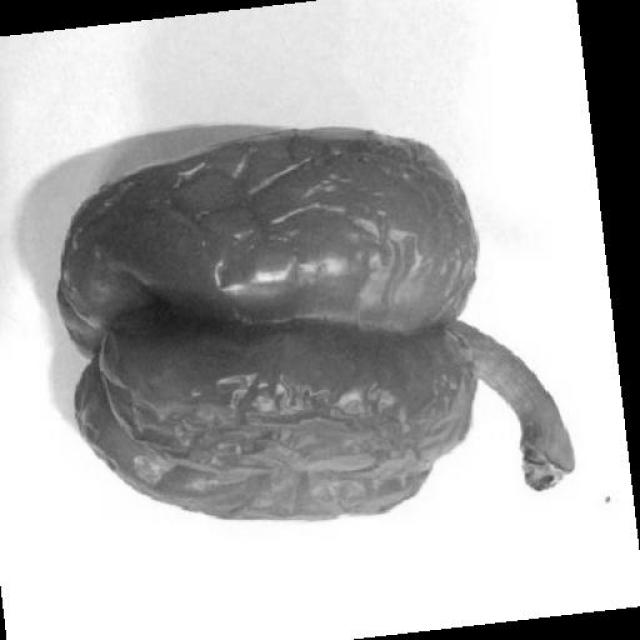Stale_Capsicum: (34, 122, 498, 562)
